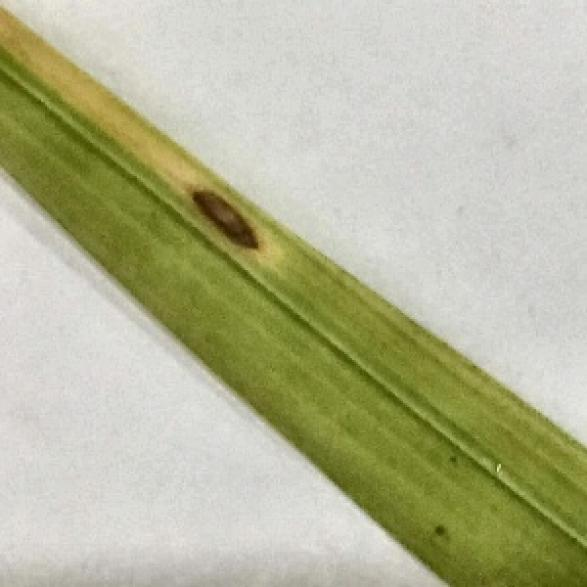Leaf_smut: (178, 176, 278, 262)
